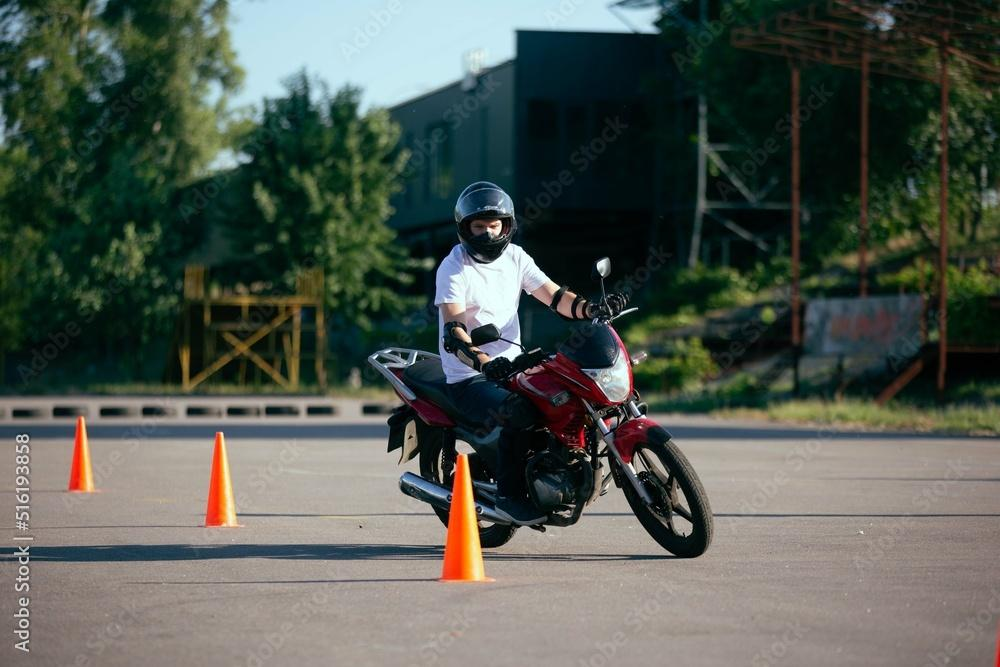helmet: (453, 180, 518, 264)
